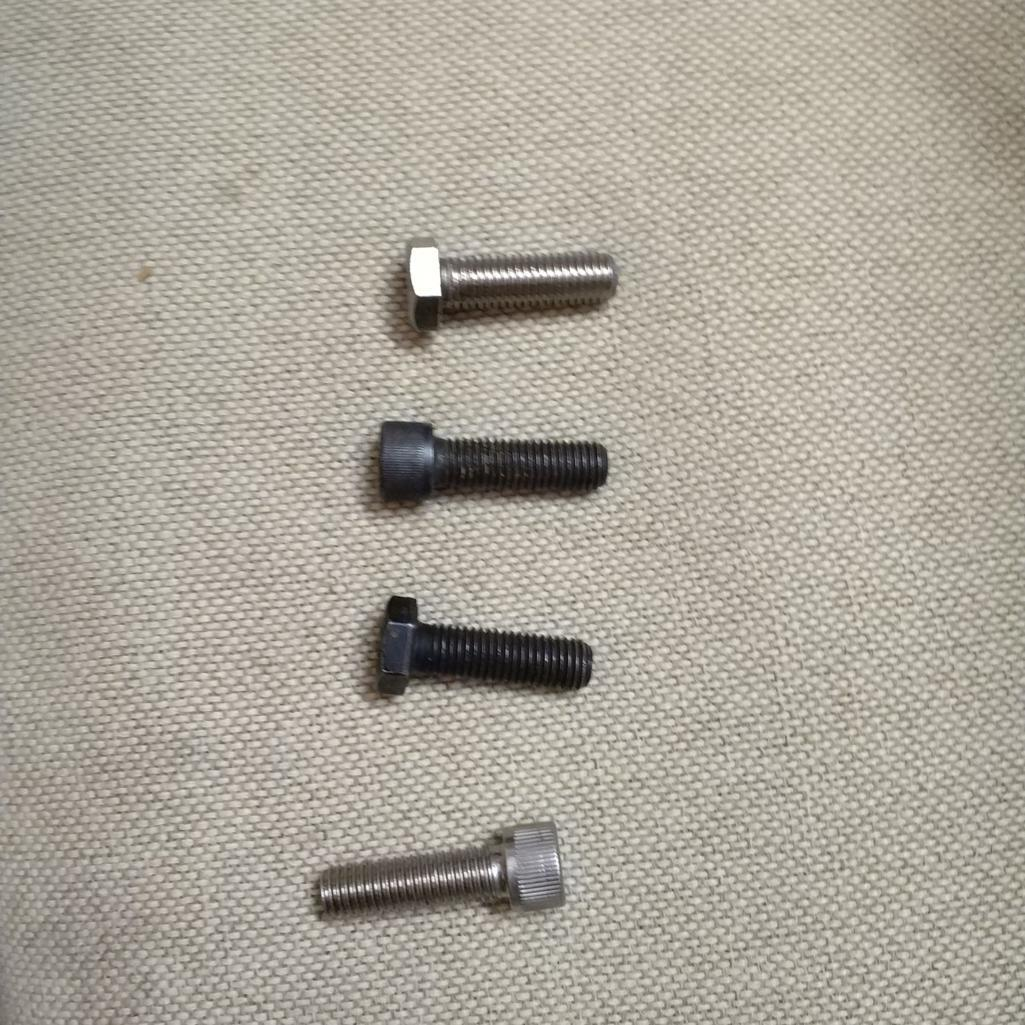screwtype1black: (371, 413, 611, 513)
screwtype1silver: (305, 819, 568, 928)
screwtype2black: (379, 590, 595, 717)
screwtype2silver: (397, 227, 621, 334)
